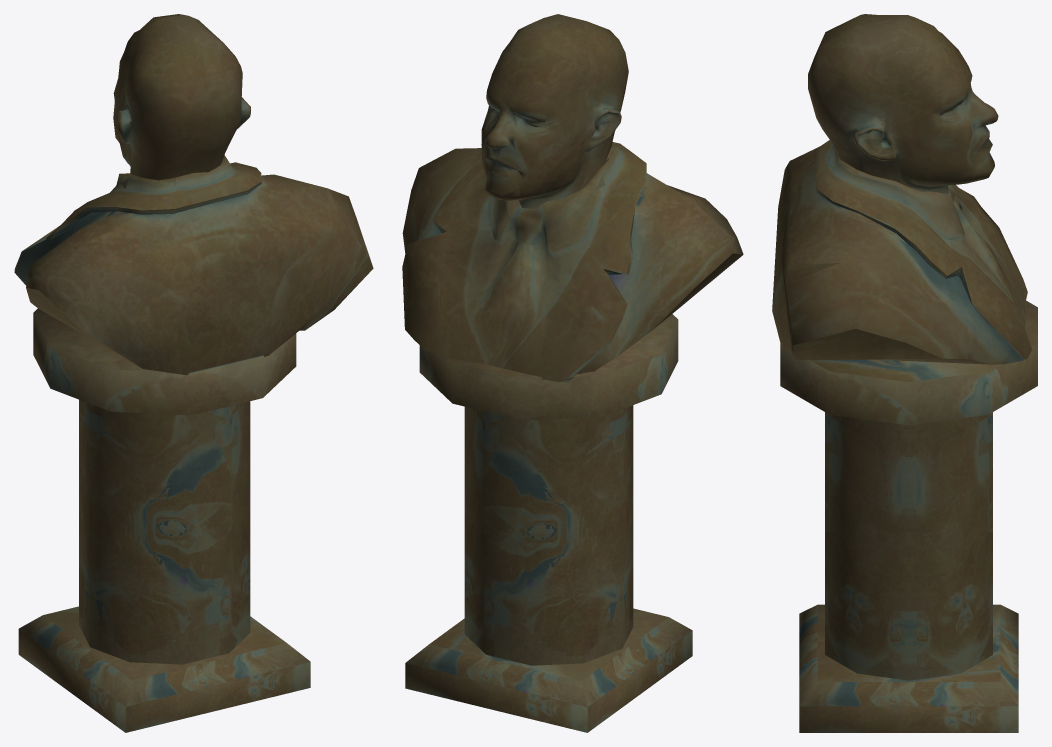
File: estatua.obj
The picture shows the model from 3 angles, left to right: view 1: azimuth 30°, elevation 25°; view 2: azimuth 150°, elevation 25°; view 3: azimuth 270°, elevation 25°; orthographic projection. The views are drawn at different scales.
Visible parts, largest first — view 1: 69, RyanBust; view 2: RyanBust, 69; view 3: 69, RyanBust.
Part boxes in pixels (x1,y1,x2,y2): 69: [18, 308, 310, 732]; RyanBust: [14, 14, 373, 375]; RyanBust: [402, 14, 743, 382]; 69: [405, 314, 692, 732]; 69: [780, 300, 1037, 732]; RyanBust: [772, 14, 1032, 364].
Size of the model in its own units: 35.92 by 69.56 by 24.99.
